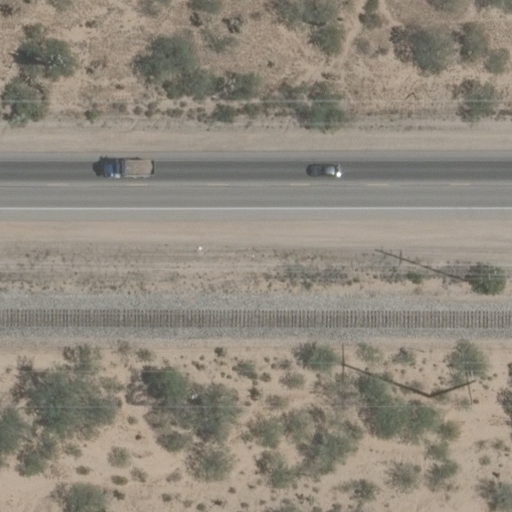DT: (425, 368, 475, 400), (453, 264, 489, 285)
